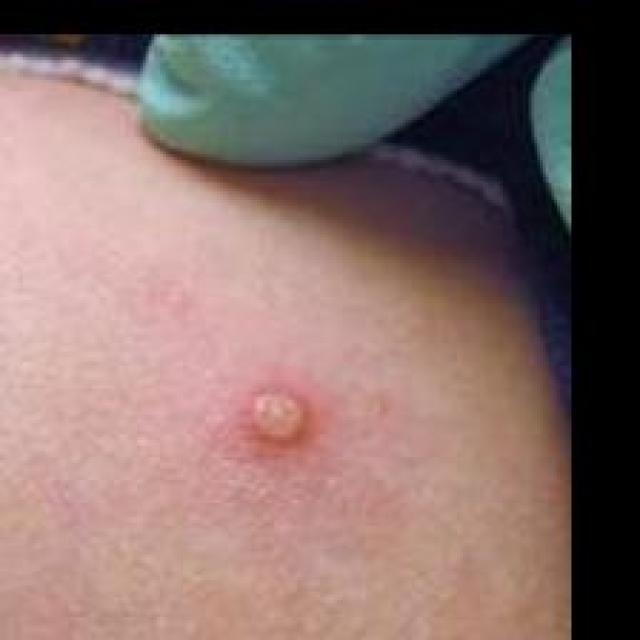monkeypox: (127, 264, 472, 596)
